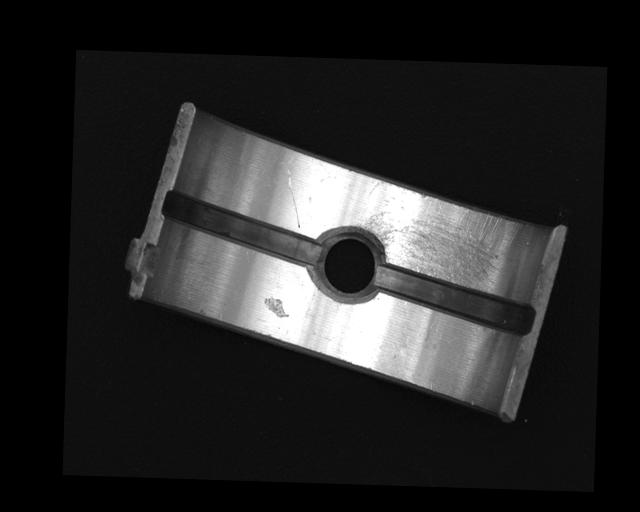bruise: (262, 295, 290, 318)
gap: (161, 191, 321, 268), (372, 265, 536, 337)
hole: (312, 224, 384, 304)
nick: (285, 168, 303, 229)
scratch: (360, 182, 522, 300)
